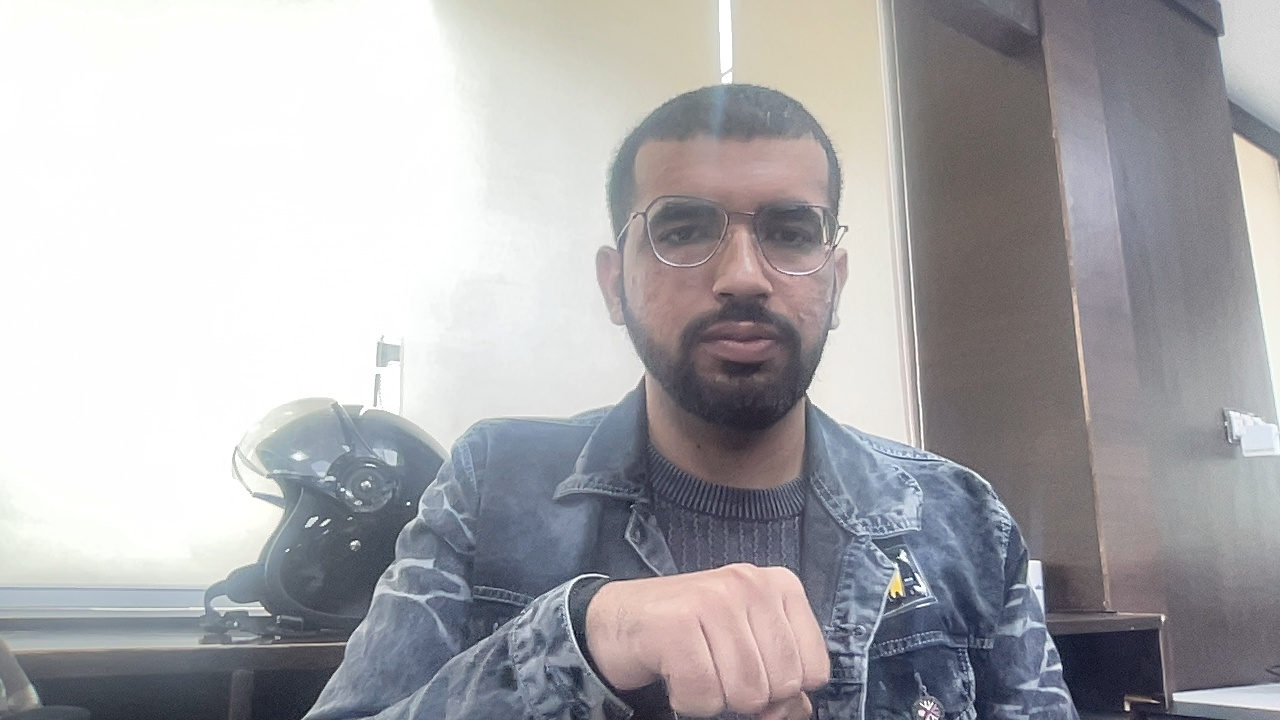Yes: (565, 553, 858, 714)
